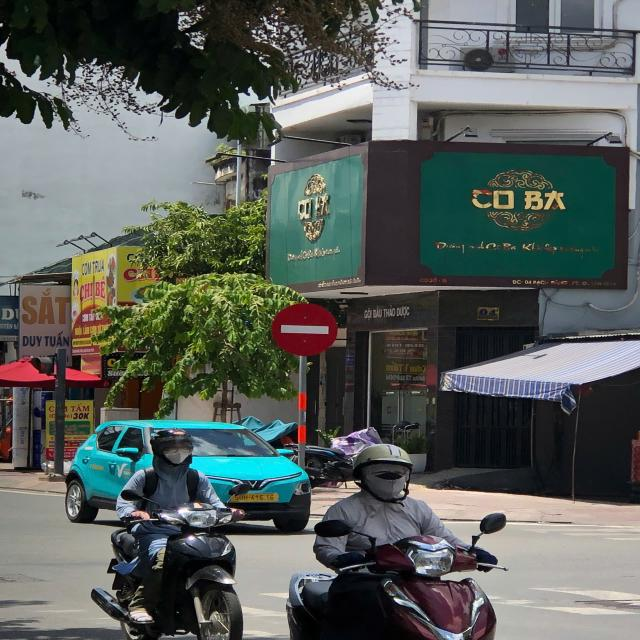Bien bao cam di nguoc chieu: (262, 296, 344, 362)
